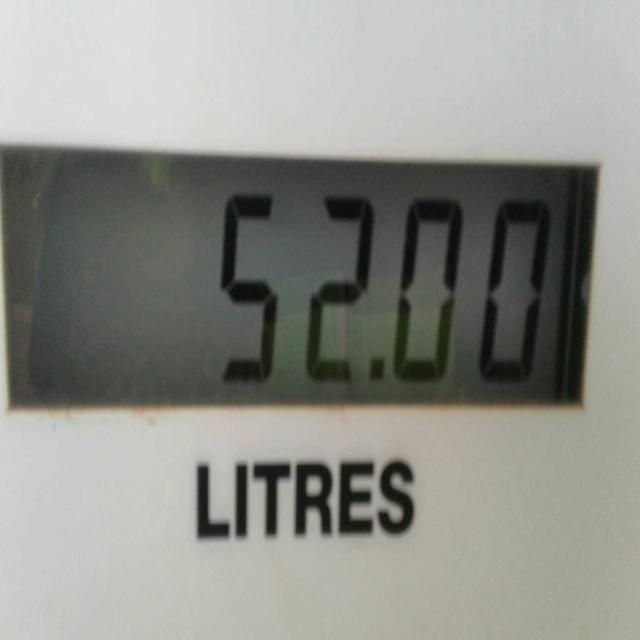.: (366, 336, 388, 378)
0: (480, 196, 548, 382), (397, 198, 462, 386)
2: (304, 191, 368, 382)
5: (216, 197, 278, 390)
